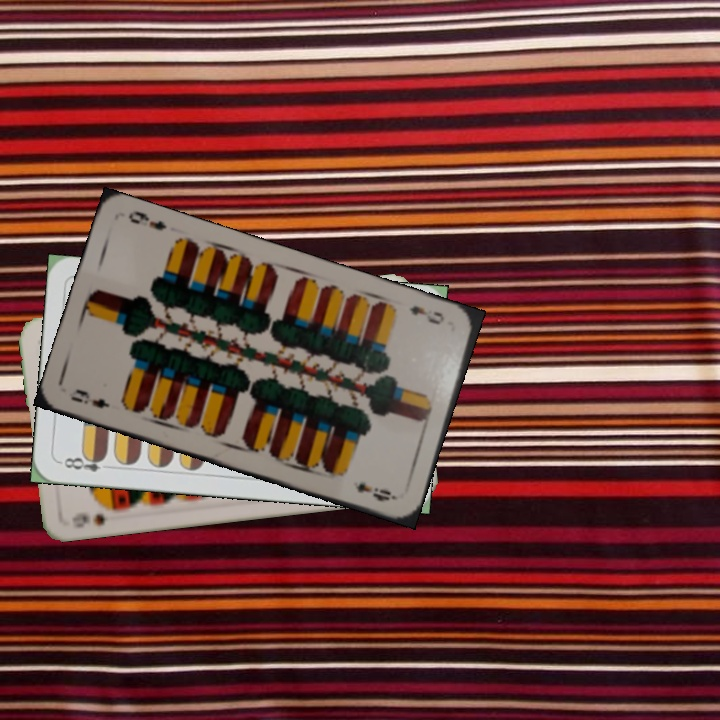E8: (57, 450, 116, 475)
E9: (67, 385, 113, 412), (404, 301, 447, 328)
S9: (68, 500, 123, 531)
